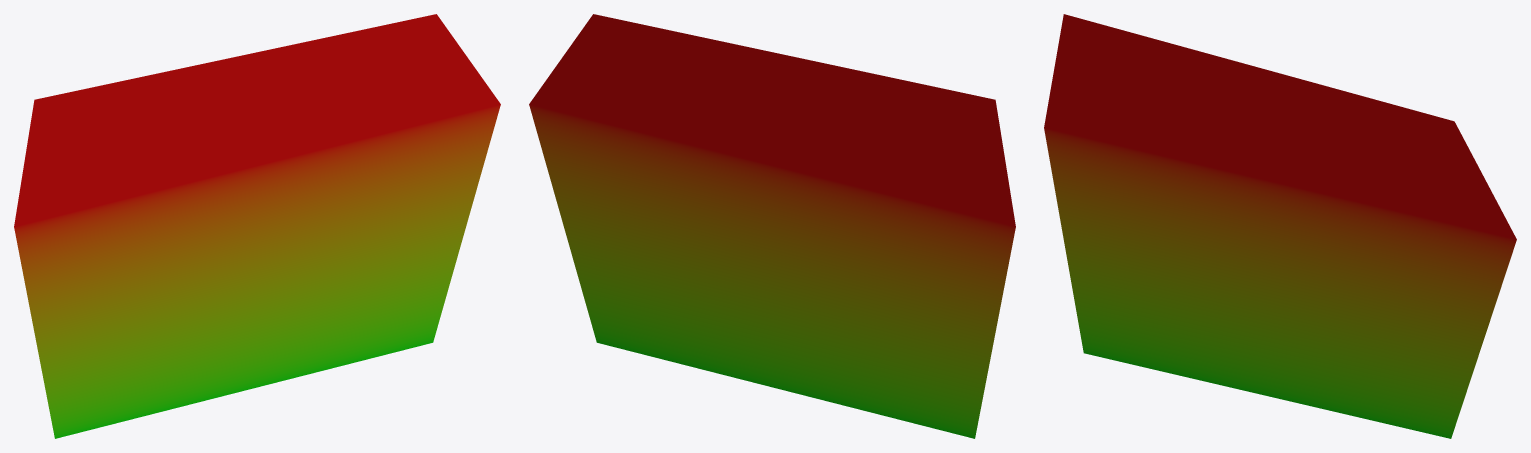
The model's file is Desert Cotton_LOD6_Var3_xeogciyqx.fbx.
3 views of the same model, side by side, from view 1: azimuth 30°, elevation 25°; view 2: azimuth 150°, elevation 25°; view 3: azimuth 330°, elevation 25° (orthographic). The views are drawn at different scales.
Visible parts, largest first — view 1: _g8be_Var3_LOD6; view 2: _g8be_Var3_LOD6; view 3: _g8be_Var3_LOD6.
Part boxes in pixels (x1,y1,x2,y2): _g8be_Var3_LOD6: (14,14,500,438); _g8be_Var3_LOD6: (529,14,1015,438); _g8be_Var3_LOD6: (1044,14,1516,438).
Bounding box in the file's own units: 71.32 × 48.18 × 7.85e-06.
